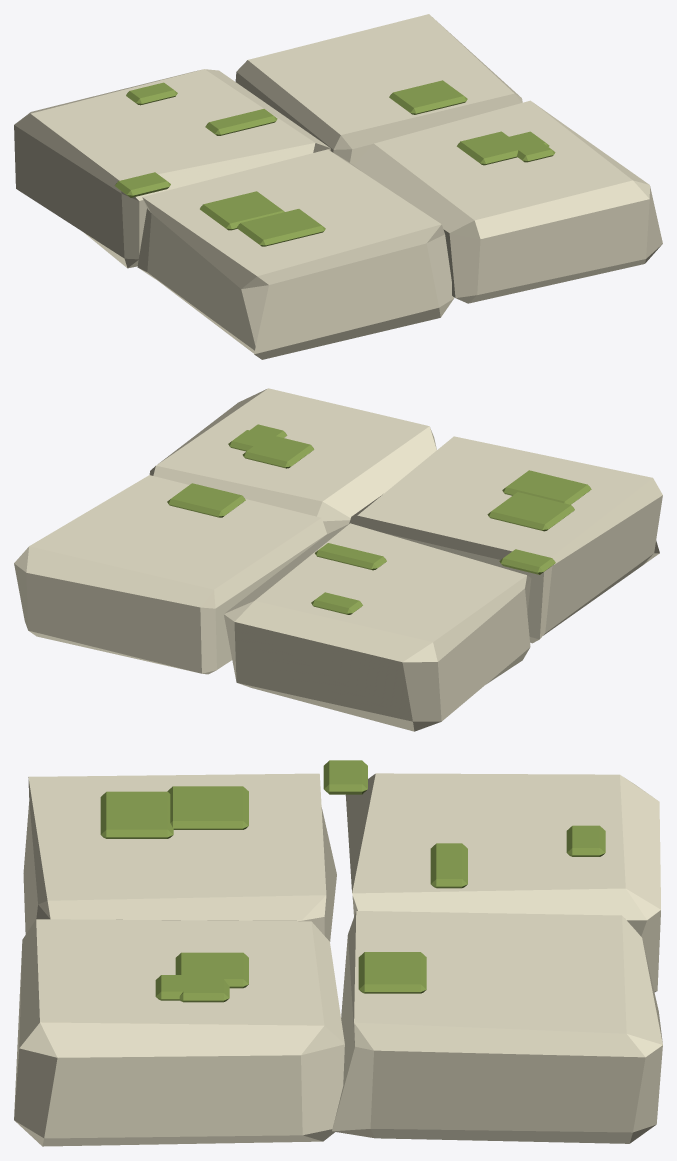
Rendered from slab_moss.glb.
3 renders of one model, top to bottom at view 1: azimuth 30°, elevation 25°; view 2: azimuth 150°, elevation 25°; view 3: azimuth 270°, elevation 25°, orthographic. The views are drawn at different scales.
Visible parts, largest first — view 1: slab_moss; view 2: slab_moss; view 3: slab_moss.
Part boxes in pixels (left/top/right/bottom): slab_moss: left=14, top=14, right=662, bottom=359; slab_moss: left=14, top=388, right=662, bottom=731; slab_moss: left=14, top=760, right=662, bottom=1146.
Bounding box in the file's own units: 1.03 × 0.214 × 1.02.
